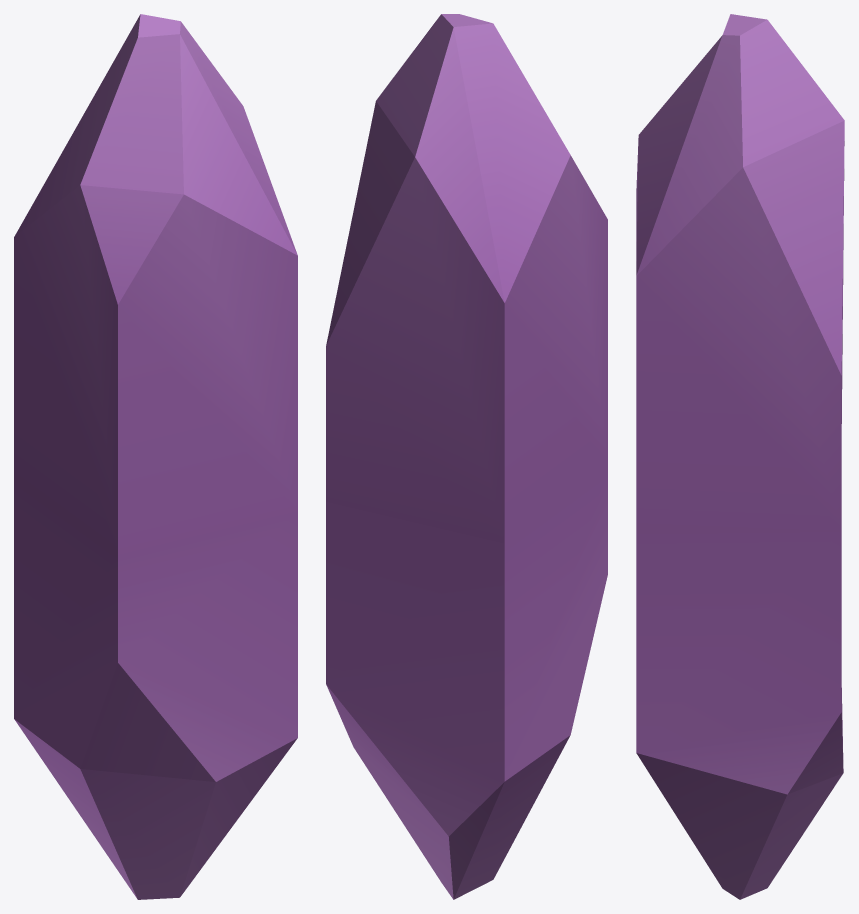
File: amethyst_shard.glb
3 renders of one model, left to right at view 1: azimuth 30°, elevation 25°; view 2: azimuth 150°, elevation 25°; view 3: azimuth 270°, elevation 25°, orthographic.
Parts seen in each view (by area): view 1: shard; view 2: shard; view 3: shard.
Part boxes in pixels (left/top/right/bottom): shard: left=14, top=14, right=297, bottom=899; shard: left=326, top=14, right=607, bottom=899; shard: left=636, top=14, right=844, bottom=899.
Size of the model in its own units: 0.4002 by 1.87 by 0.406.
1 material, 1 textured.
